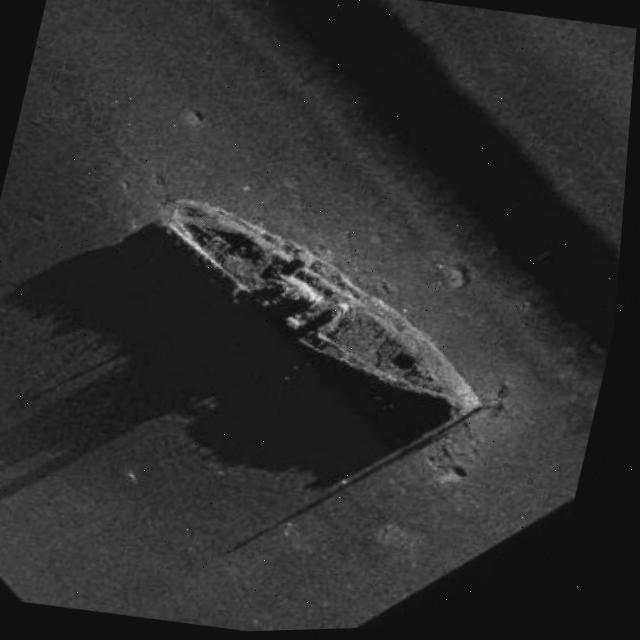shipwreck: (122, 185, 526, 433)
